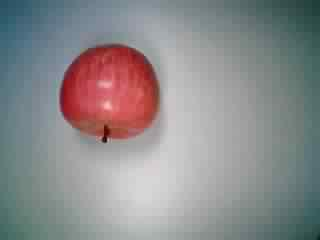apple: (56, 42, 161, 144)
